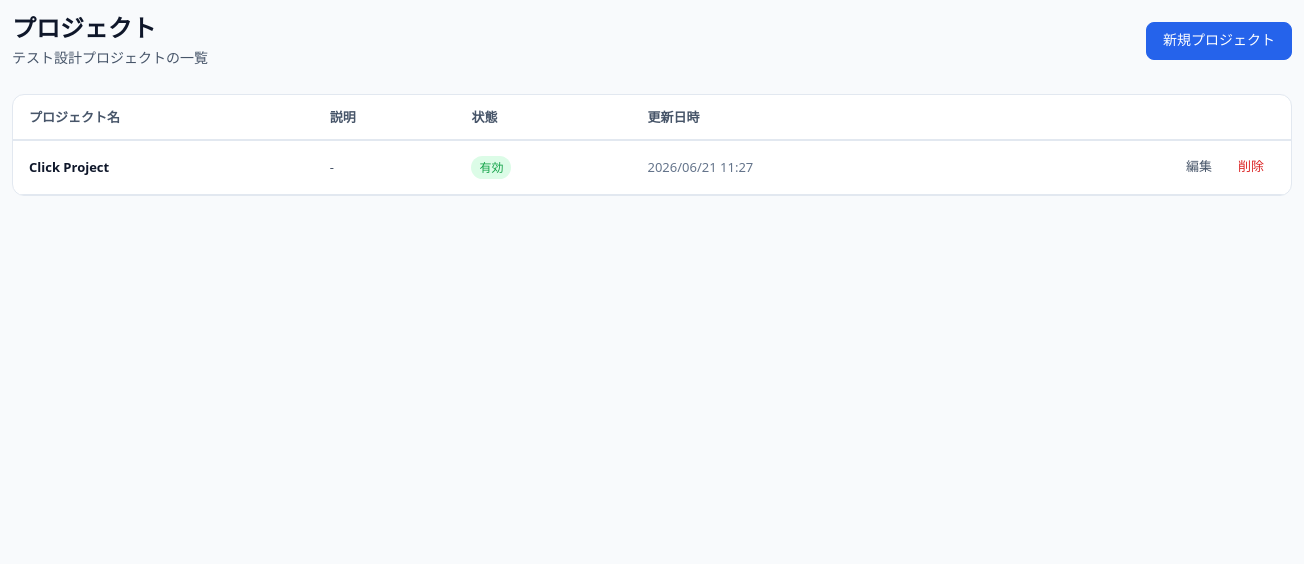
Scenario: ProjectListPage › navigates to dashboard on row click
Expected: the text "Click Project" is shown, [13,140,314,195]
What coordinates should you click on to do the following:
click the button "Click Project - 有効 2026/06/21 11:27 編集 削除"
I would click on:
 (652, 168)
Its box is [13,140,1291,195].
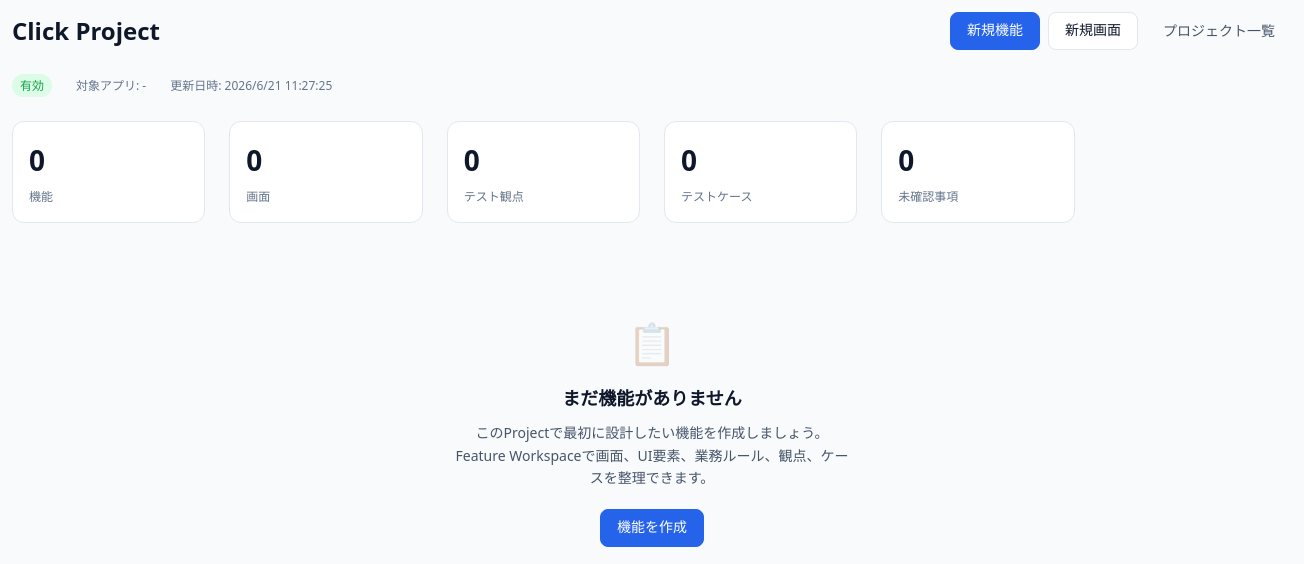
Result: the heading "Click Project" is shown at [12,15,160,46]
